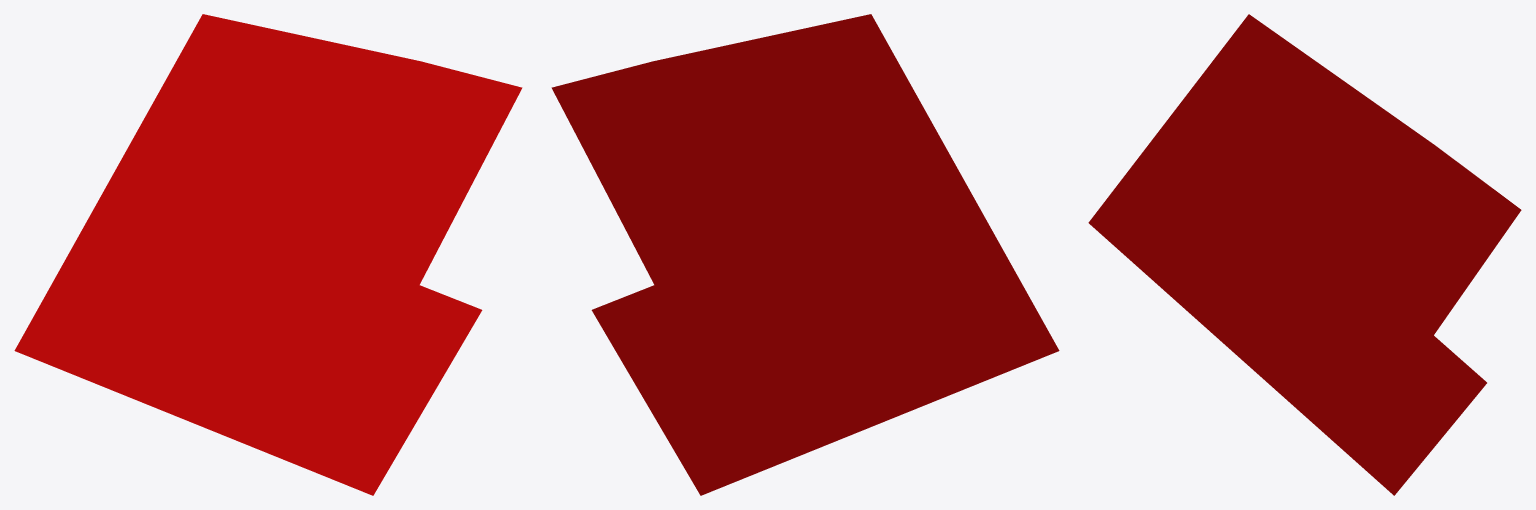
File: building_lod1_3003_roof.glb
3 views of the same model, side by side, from view 1: azimuth 30°, elevation 25°; view 2: azimuth 150°, elevation 25°; view 3: azimuth 330°, elevation 25° (orthographic). The views are drawn at different scales.
Size of the model in its own units: 23.07 by 22.72 by 0.
